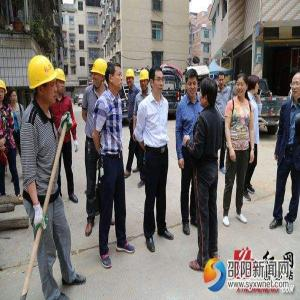none: (199, 77, 220, 111), (105, 61, 125, 95), (149, 65, 165, 97), (184, 68, 200, 99), (235, 72, 250, 101), (248, 72, 262, 99), (291, 72, 300, 102), (217, 71, 227, 89)
yellow: (28, 53, 59, 112), (91, 57, 109, 91), (54, 67, 67, 96), (139, 70, 151, 93), (125, 68, 136, 90), (2, 80, 8, 106)
